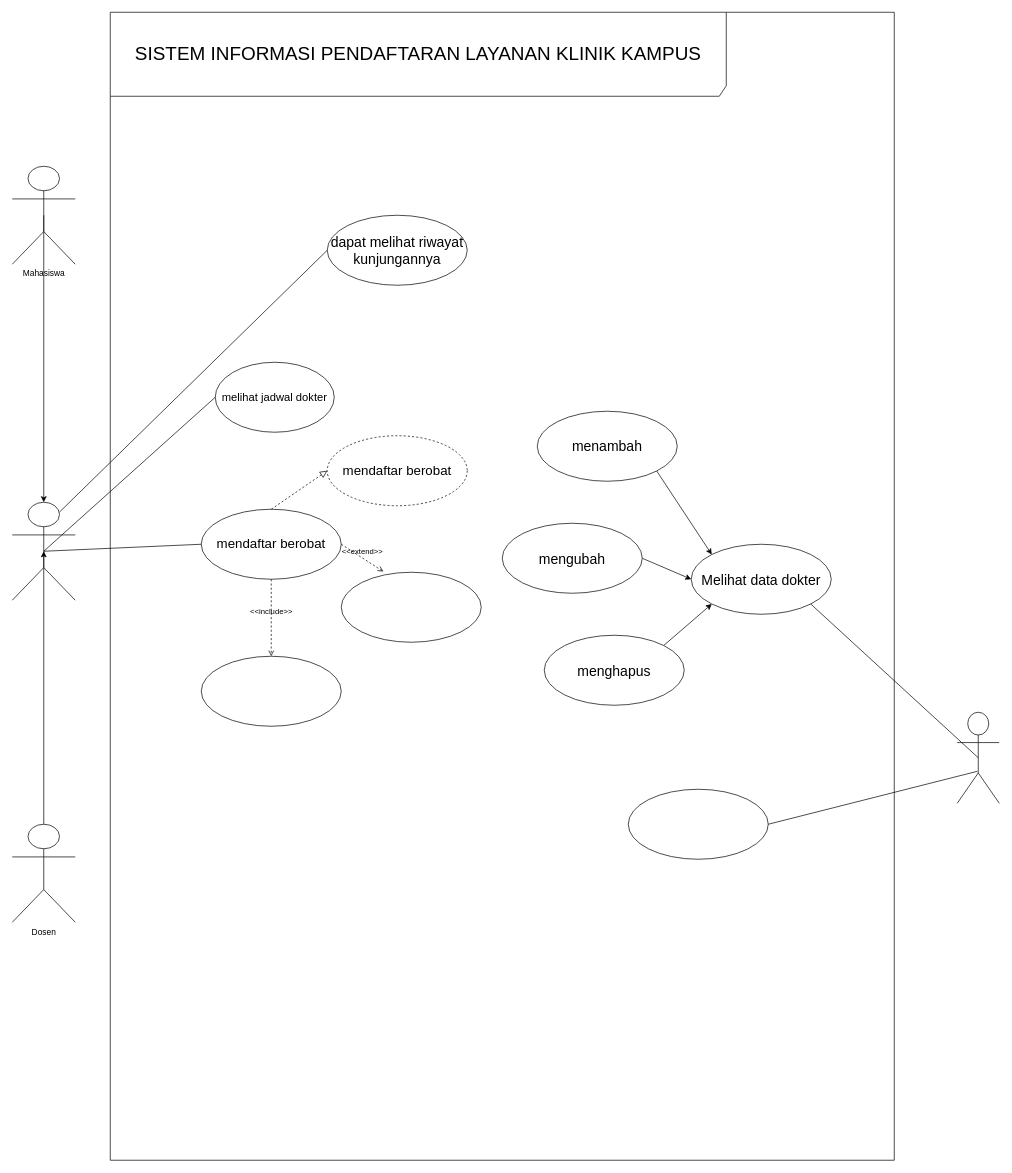
The diagram is 1012 pixels wide and 1173 high, and some of its shapes have lost their labels. The shapes that lost their labels are listed below. From the top down, each one's centre as x and y in pixels, then its label:
At [43,551]: "Pasien".
At [411,607]: "status pendaftaran".
At [271,691]: "membayar administrasi".
At [978,757]: "Petugas".
At [698,824]: "melihat laporan kunjungan".
